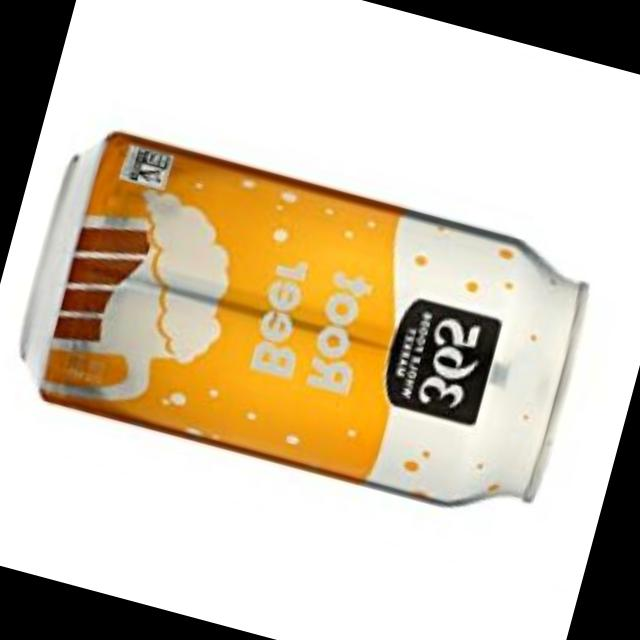metal: (27, 136, 587, 507)
